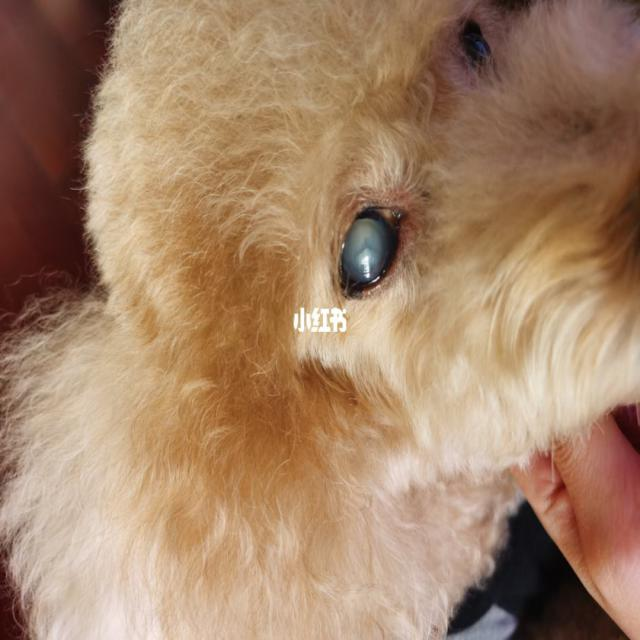eye: (331, 194, 406, 300)
